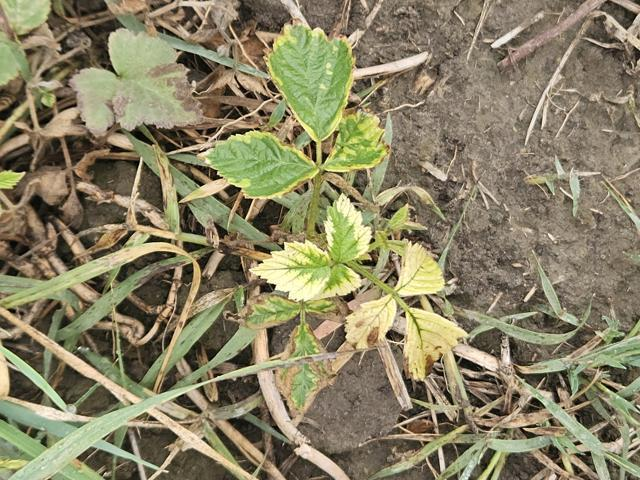bad weed: (180, 34, 472, 399), (446, 307, 640, 479)
